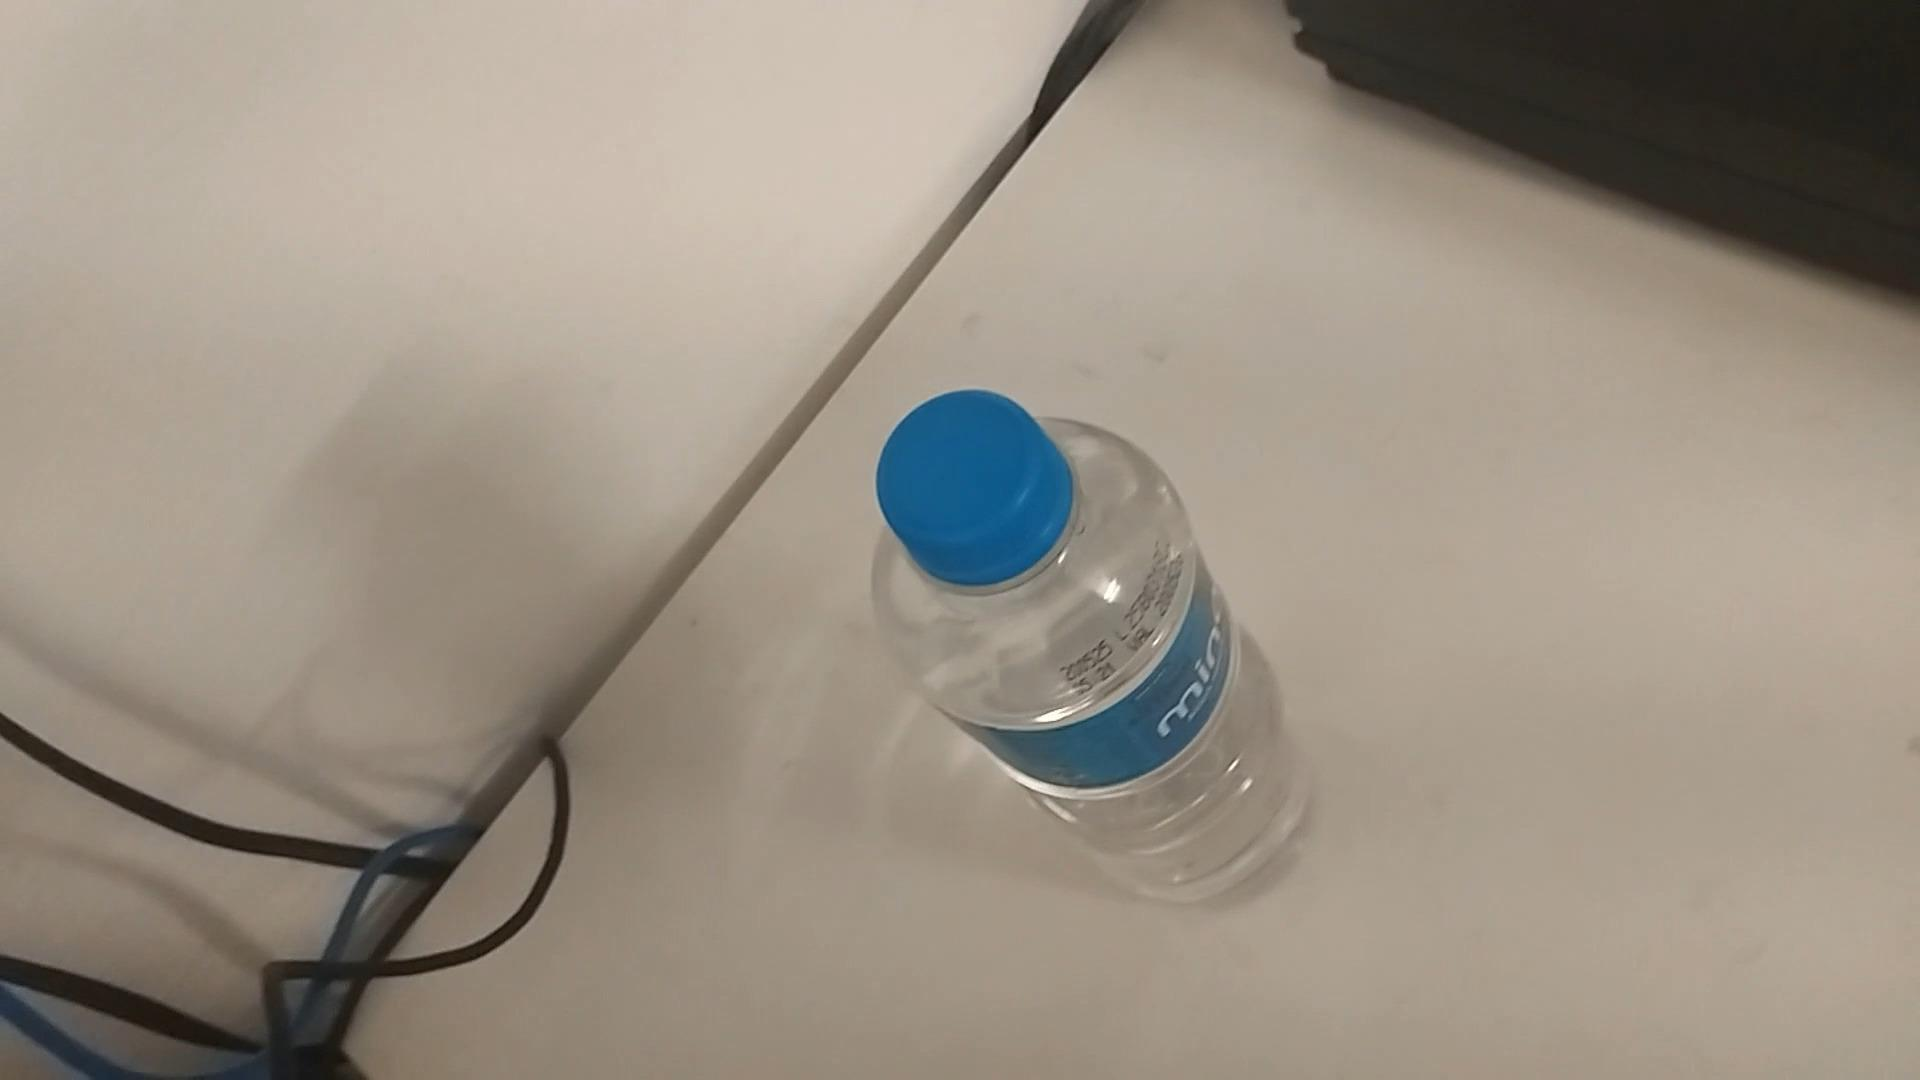agua: (869, 388, 1291, 897)
